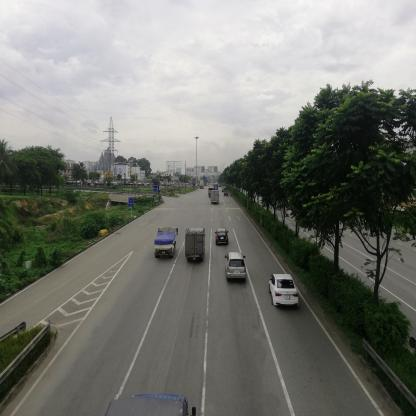car: (272, 275, 301, 307), (226, 253, 249, 281), (217, 228, 229, 246)
truck: (100, 396, 197, 416), (155, 229, 179, 259), (186, 230, 206, 264), (211, 190, 220, 204)
